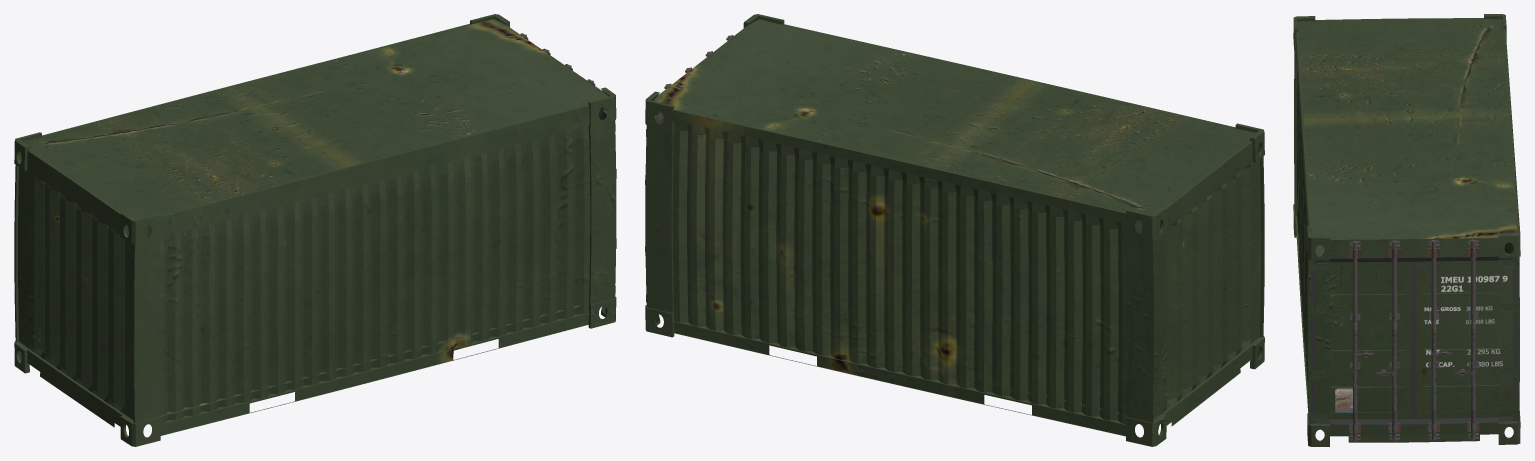
File: 20-foot-container-green.fbx
3 views of the same model, side by side, from view 1: azimuth 30°, elevation 25°; view 2: azimuth 150°, elevation 25°; view 3: azimuth 270°, elevation 25° (orthographic). The views are drawn at different scales.
Visible parts, largest first — view 1: Contenedor normal; view 2: Contenedor normal; view 3: Contenedor normal, Barras, Placa.
Boxes of the visible parts, x1,y1,x2,y2 form: Contenedor normal: (14, 14, 616, 446); Contenedor normal: (645, 14, 1264, 446); Contenedor normal: (1293, 14, 1520, 446); Barras: (1349, 239, 1479, 441); Placa: (1335, 388, 1352, 412).
Size of the model in its own units: 622 by 268 by 264.
Materials: 4 (3 with a texture image).
